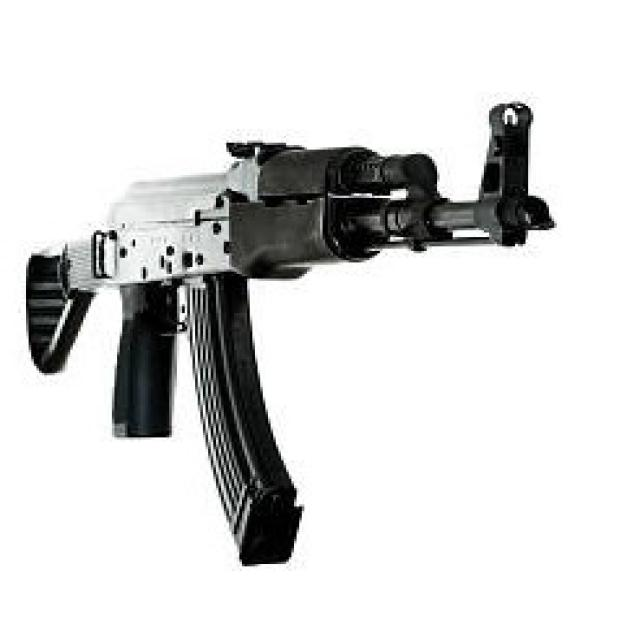rifle: (14, 92, 562, 582)
